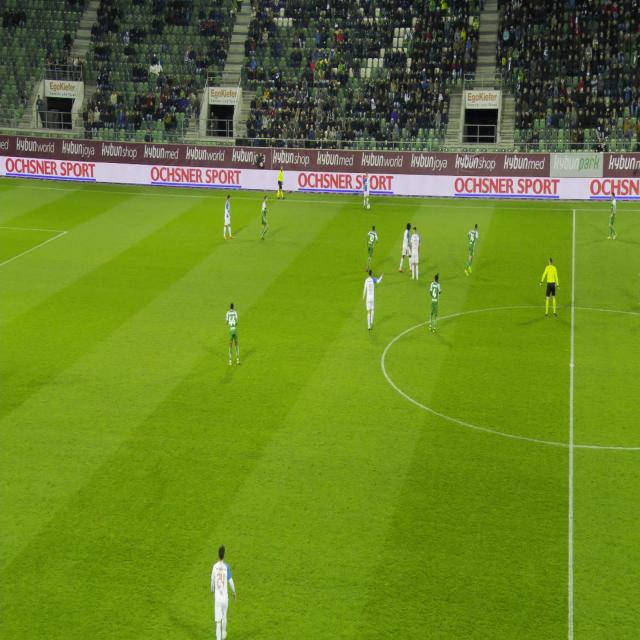Ball: (364, 200, 372, 213)
Player: (206, 536, 240, 640), (355, 264, 393, 338), (222, 300, 246, 373), (459, 217, 482, 288), (602, 183, 620, 247), (363, 223, 385, 275), (255, 190, 275, 247), (220, 186, 238, 247), (362, 172, 373, 212)
Referee: (538, 249, 566, 323), (276, 157, 288, 205)
